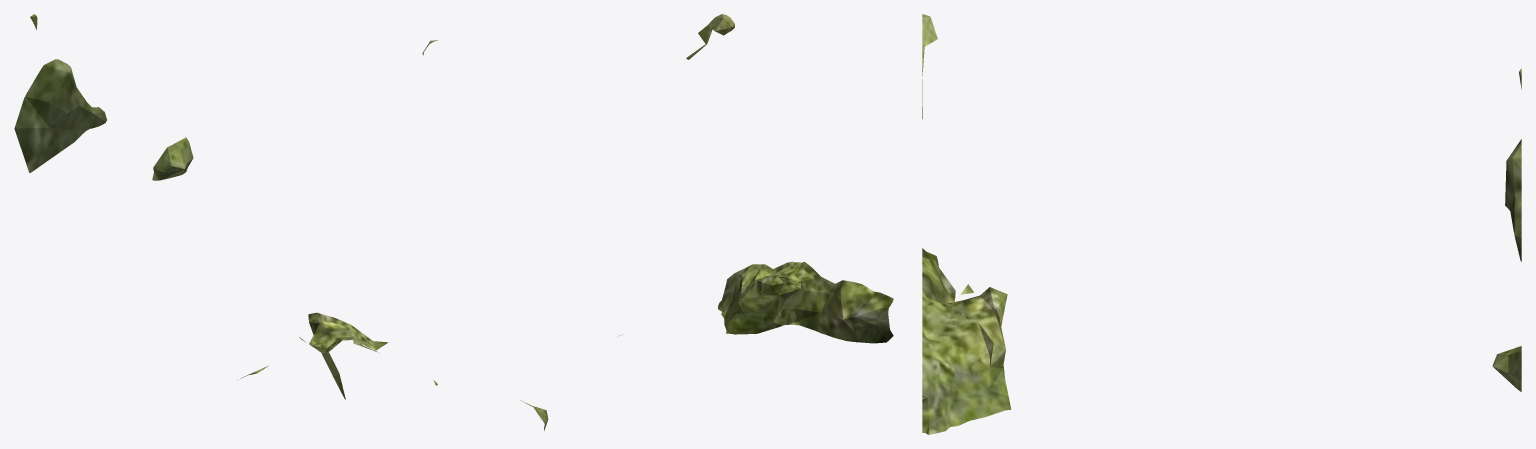
3 renders of one model, left to right at view 1: azimuth 30°, elevation 25°; view 2: azimuth 150°, elevation 25°; view 3: azimuth 270°, elevation 25°, orthographic. The views are drawn at different scales.
Size of the model in its own units: 1.7 by 2.26 by 2.95.
1 material, 1 textured.
